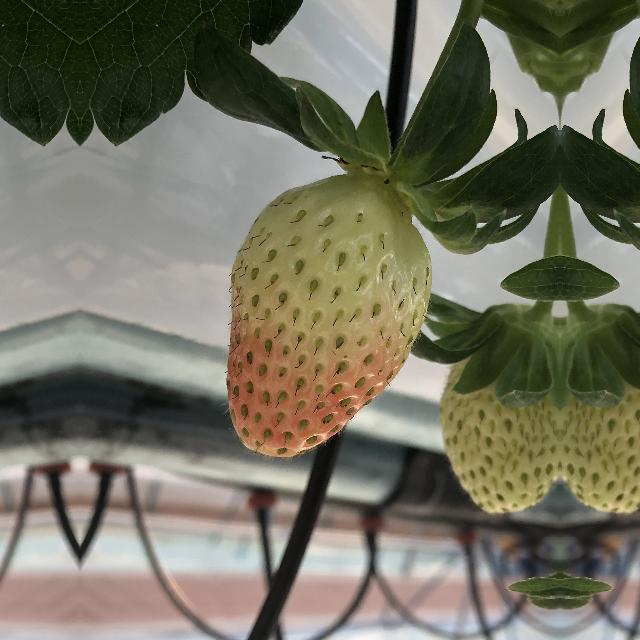Health_25: (439, 336, 559, 514), (561, 335, 640, 514)
Health_50: (220, 154, 436, 460)
